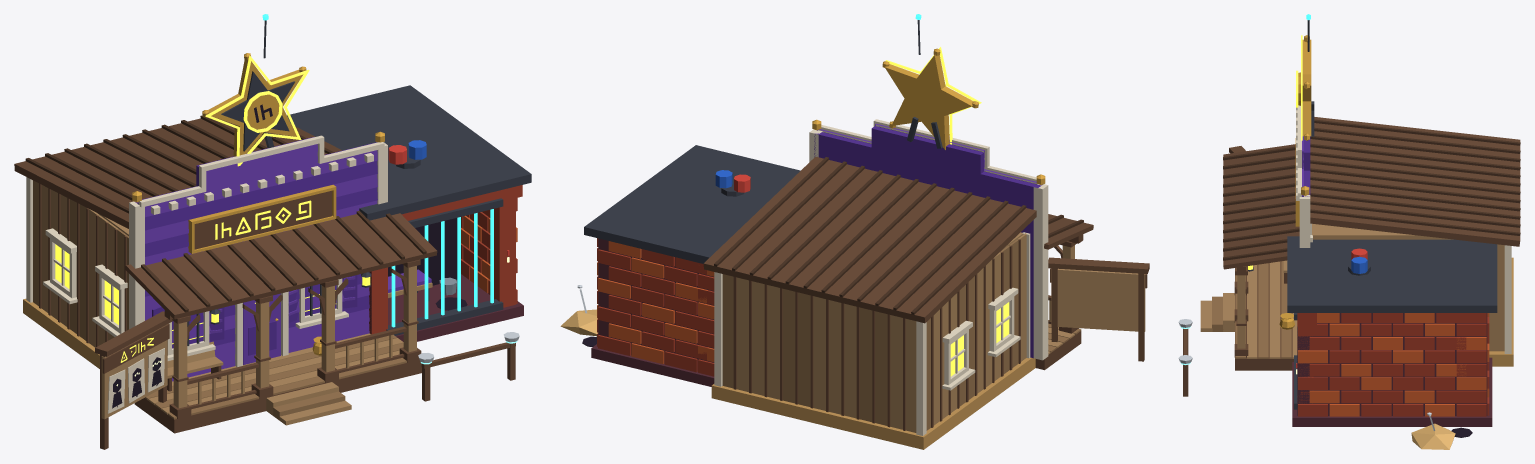
File: Bldg_Sheriff 1.fbx
The picture shows the model from 3 angles, left to right: view 1: azimuth 30°, elevation 25°; view 2: azimuth 150°, elevation 25°; view 3: azimuth 270°, elevation 25°; orthographic projection. The views are drawn at different scales.
Visible parts, largest first — view 1: Bldg_Sheriff_Body, Bldg_Sheriff_Star, Bldg_Sheriff_Laser_Bars, Bldg_Sheriff_Posters, Bldg_Sheriff_Door; view 2: Bldg_Sheriff_Body, Bldg_Sheriff_Star; view 3: Bldg_Sheriff_Body, Bldg_Sheriff_Star.
Part boxes in pixels (left/top/right/bottom): Bldg_Sheriff_Body: left=14, top=85, right=531, bottom=449; Bldg_Sheriff_Star: left=202, top=14, right=309, bottom=166; Bldg_Sheriff_Laser_Bars: left=391, top=209, right=493, bottom=327; Bldg_Sheriff_Posters: left=107, top=337, right=164, bottom=413; Bldg_Sheriff_Door: left=243, top=293, right=280, bottom=364; Bldg_Sheriff_Body: left=560, top=117, right=1149, bottom=449; Bldg_Sheriff_Star: left=882, top=14, right=981, bottom=149; Bldg_Sheriff_Body: left=1178, top=101, right=1520, bottom=449; Bldg_Sheriff_Star: left=1296, top=14, right=1311, bottom=140.
Bounding box in the file's own units: 15.72 × 10.35 × 10.43.
